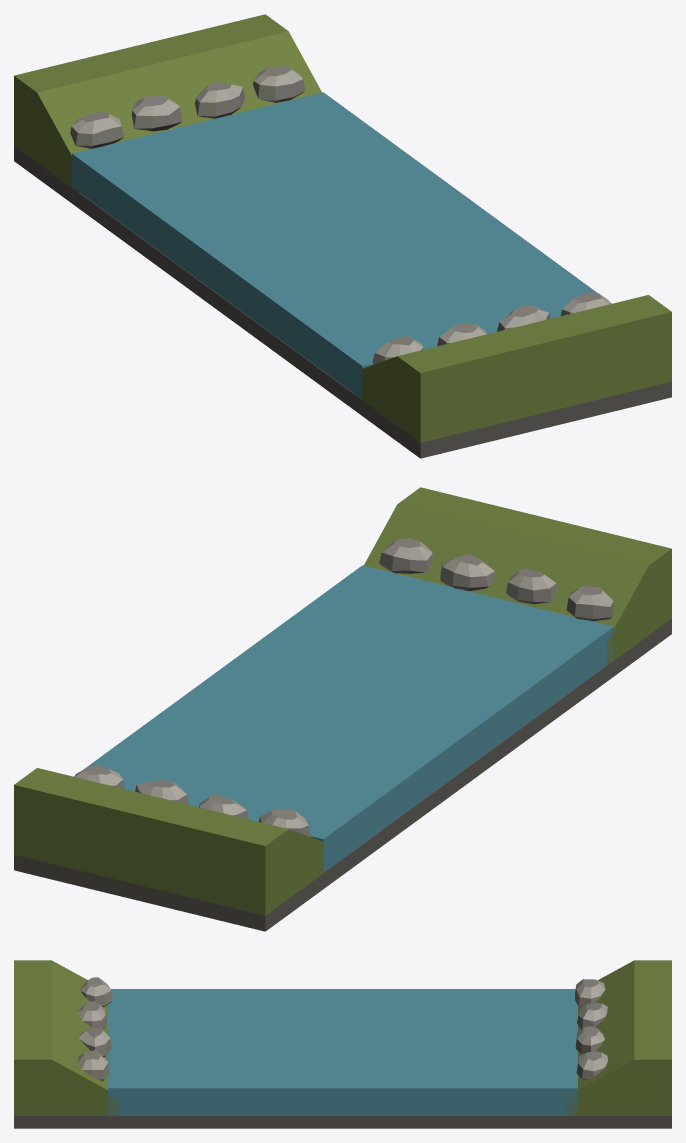
File: SM_Wafu_Mod_Stream_Straight_01.fbx
3 renders of one model, top to bottom at view 1: azimuth 30°, elevation 25°; view 2: azimuth 150°, elevation 25°; view 3: azimuth 270°, elevation 25°, orthographic. The views are drawn at different scales.
Visible parts, largest first — view 1: SM_Wafu_Mod_Stream_Straight_01; view 2: SM_Wafu_Mod_Stream_Straight_01; view 3: SM_Wafu_Mod_Stream_Straight_01.
Part boxes in pixels (x1,y1,x2,y2): SM_Wafu_Mod_Stream_Straight_01: (14, 14, 671, 458); SM_Wafu_Mod_Stream_Straight_01: (14, 487, 671, 931); SM_Wafu_Mod_Stream_Straight_01: (14, 960, 671, 1128).
Size of what is drawn, in the model's own units: 2 by 0.65 by 5.6.
